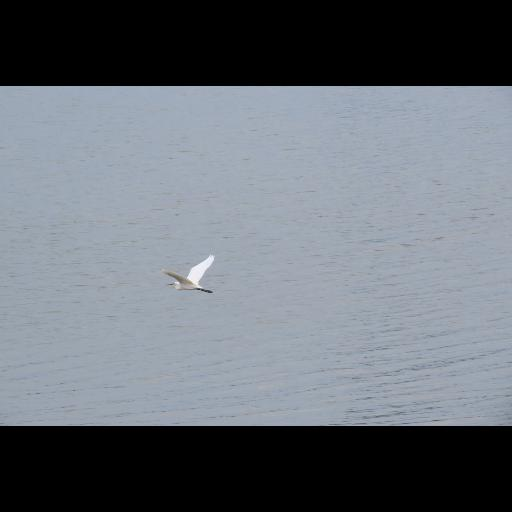chinese_egret: (160, 254, 218, 294)
